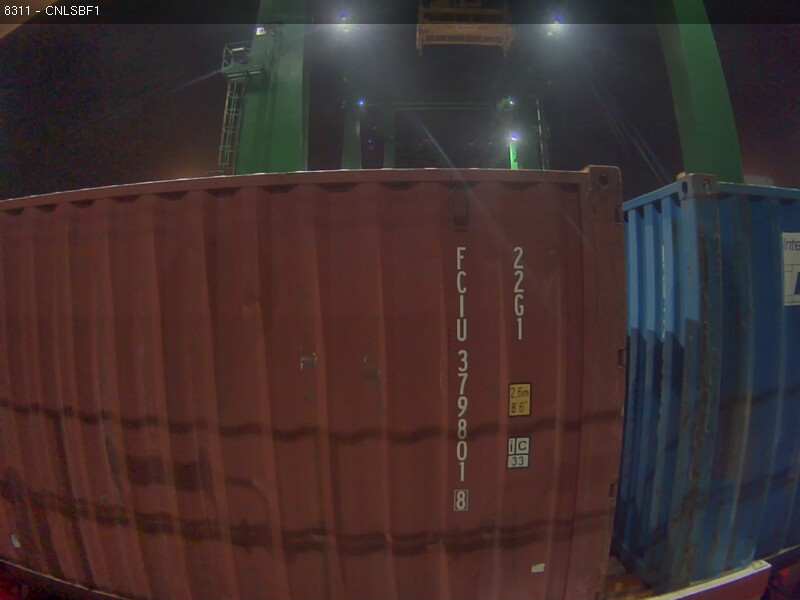container_no_door: (63, 161, 633, 581)
